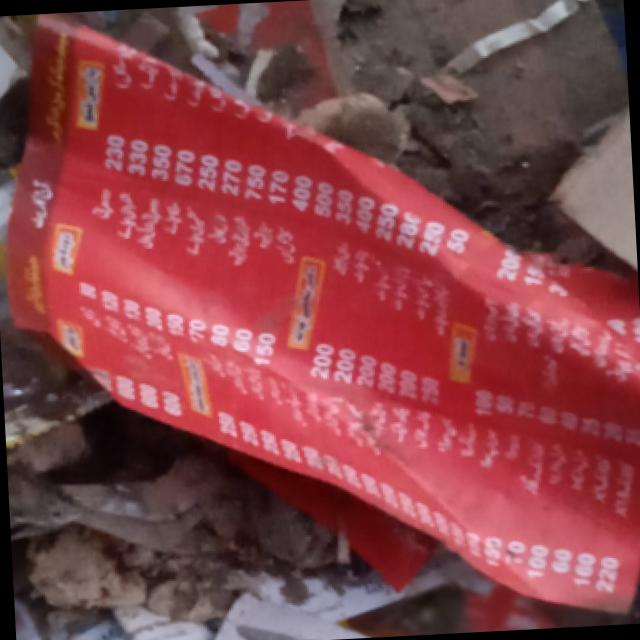electronic: (0, 14, 640, 627)
